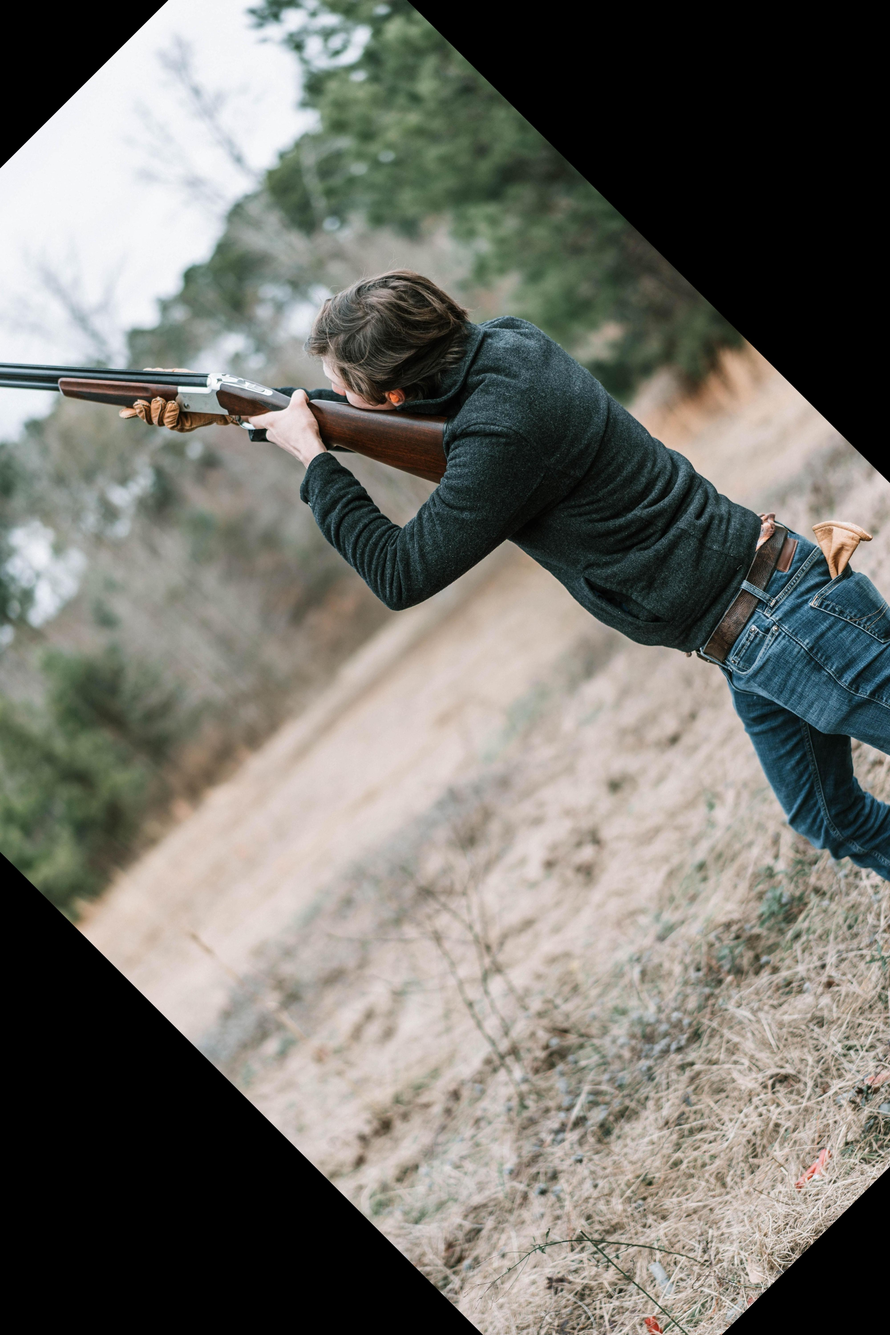larga: (1, 360, 452, 484)
